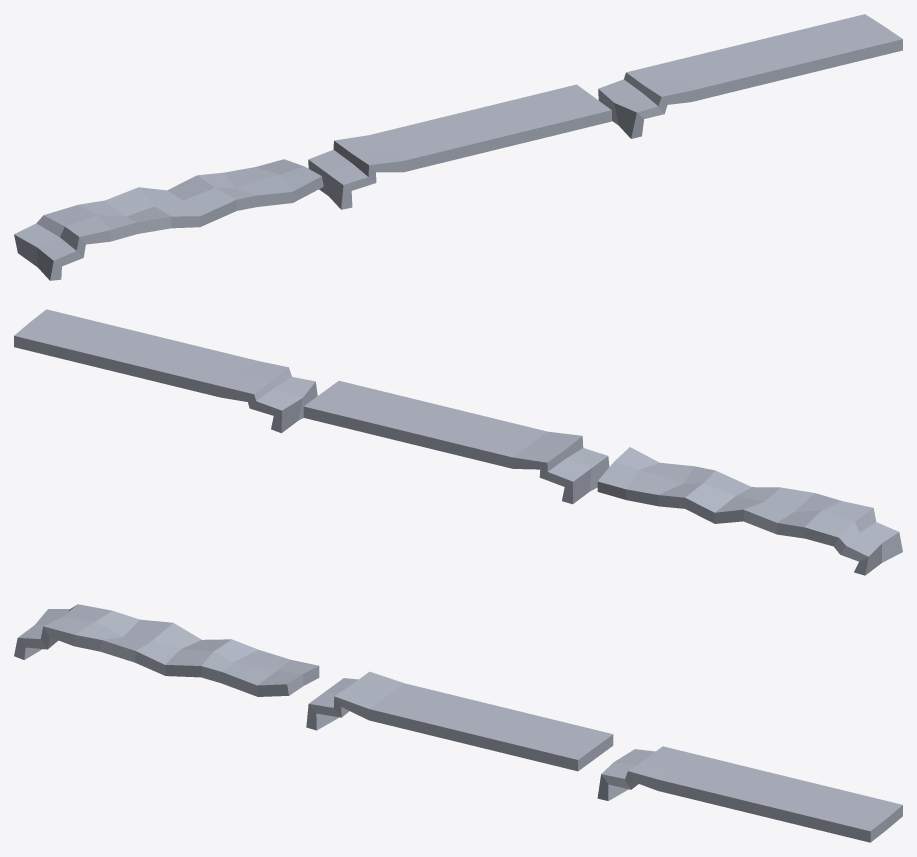
3 renders of one model, top to bottom at view 1: azimuth 30°, elevation 25°; view 2: azimuth 150°, elevation 25°; view 3: azimuth 330°, elevation 25°, orthographic.
Parts seen in each view (by area): view 1: Rock_Island_D., Rock_Island_D.YZ, Rock_Island_D.XYZ; view 2: Rock_Island_D., Rock_Island_D.XYZ, Rock_Island_D.YZ; view 3: Rock_Island_D.XYZ, Rock_Island_D.YZ, Rock_Island_D..
Part boxes in pixels (bbox=[...]): Rock_Island_D.: bbox=[14, 159, 323, 280]; Rock_Island_D.YZ: bbox=[598, 14, 902, 138]; Rock_Island_D.XYZ: bbox=[308, 84, 611, 209]; Rock_Island_D.: bbox=[597, 447, 902, 575]; Rock_Island_D.XYZ: bbox=[303, 380, 609, 504]; Rock_Island_D.YZ: bbox=[14, 309, 317, 433]; Rock_Island_D.XYZ: bbox=[306, 671, 613, 771]; Rock_Island_D.YZ: bbox=[597, 746, 902, 842]; Rock_Island_D.: bbox=[14, 604, 319, 696].
Size of the model in its own units: 873 by 11670 by 515.
